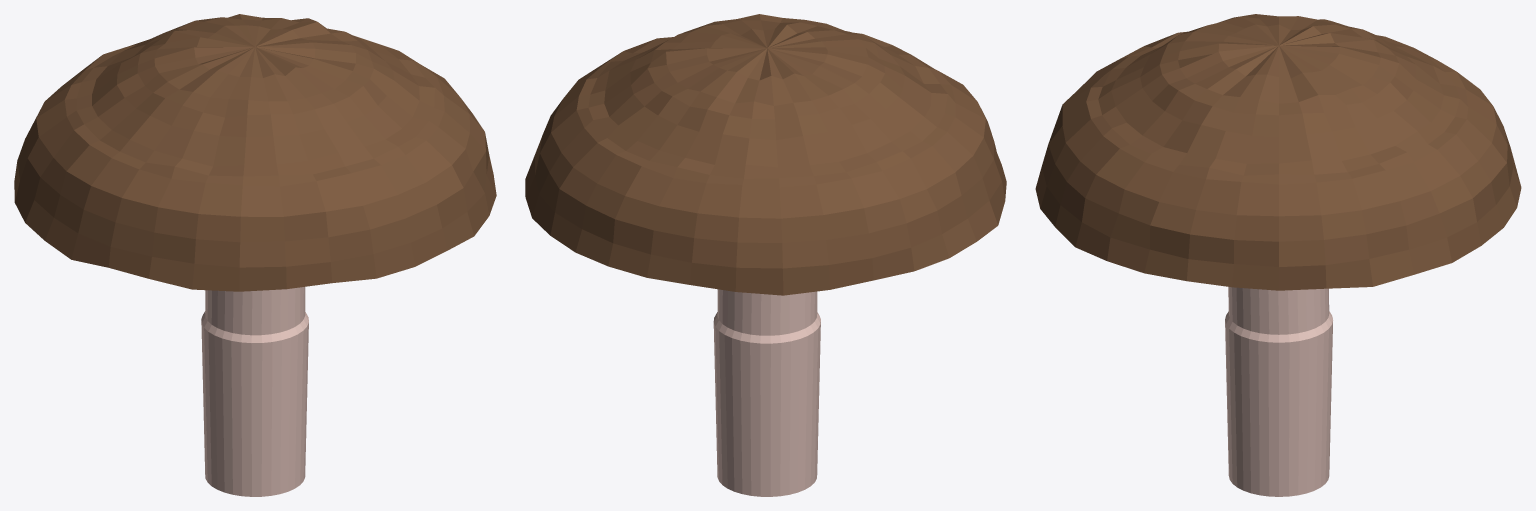
Rendered from Brown Mushroom 2.fbx.
3 renders of one model, left to right at view 1: azimuth 30°, elevation 25°; view 2: azimuth 150°, elevation 25°; view 3: azimuth 270°, elevation 25°, orthographic.
Visible parts, largest first — view 1: Mushroom2.2; view 2: Mushroom2.2; view 3: Mushroom2.2.
Part boxes in pixels (x1,y1,x2,y2): Mushroom2.2: (14,14,496,496); Mushroom2.2: (525,14,1006,496); Mushroom2.2: (1035,14,1521,496).
Bounding box in the file's own units: 967 × 944 × 967.
